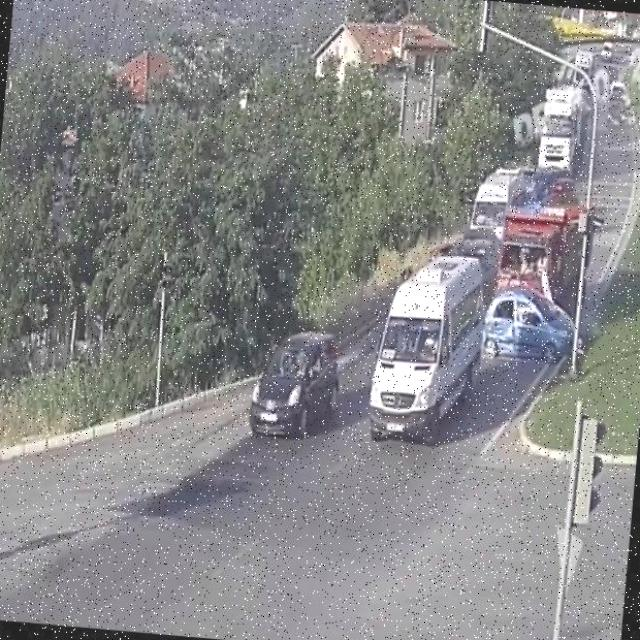accident: (474, 185, 607, 365)
